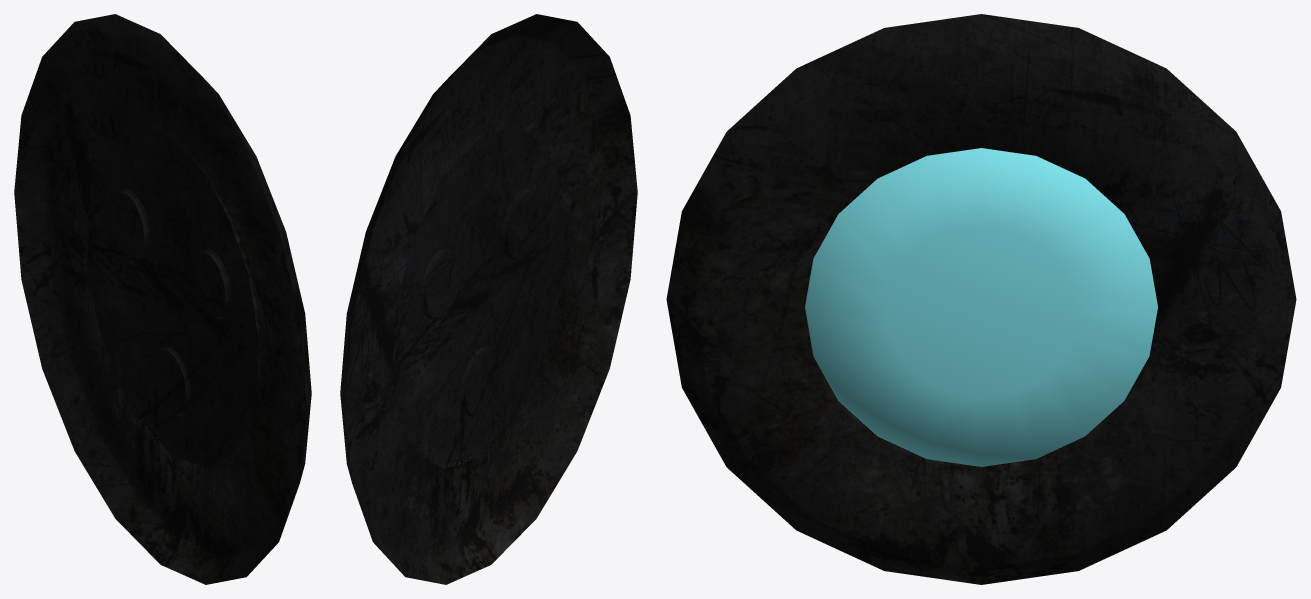
The model's file is cP_StreetLight_Flat.dae.
3 views of the same model, side by side, from view 1: azimuth 30°, elevation 25°; view 2: azimuth 150°, elevation 25°; view 3: azimuth 270°, elevation 25° (orthographic). The views are drawn at different scales.
Visible parts, largest first — view 1: cP_StreetLight_Flat.001; view 2: cP_StreetLight_Flat.001; view 3: cP_StreetLight_Flat.001.
Part boxes in pixels (x1,y1,x2,y2): cP_StreetLight_Flat.001: [14, 14, 311, 584]; cP_StreetLight_Flat.001: [340, 14, 637, 584]; cP_StreetLight_Flat.001: [666, 14, 1296, 584].
Bounding box in the file's own units: 0.0318 × 0.597 × 0.597.
